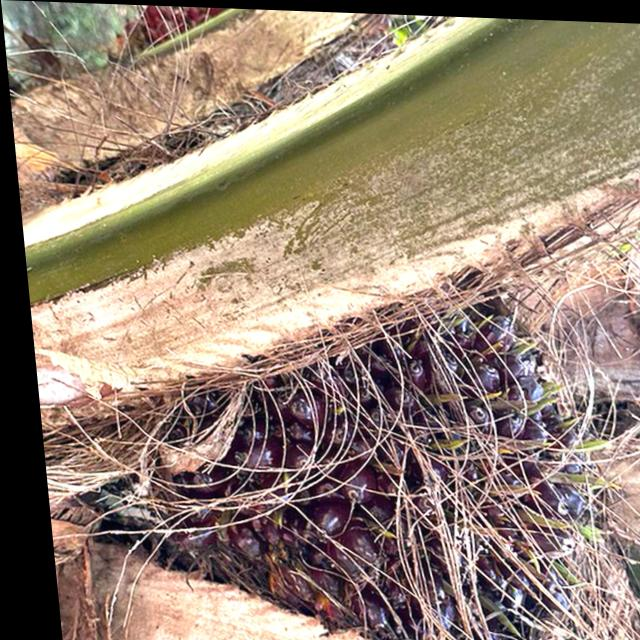almost: (54, 246, 609, 640)
